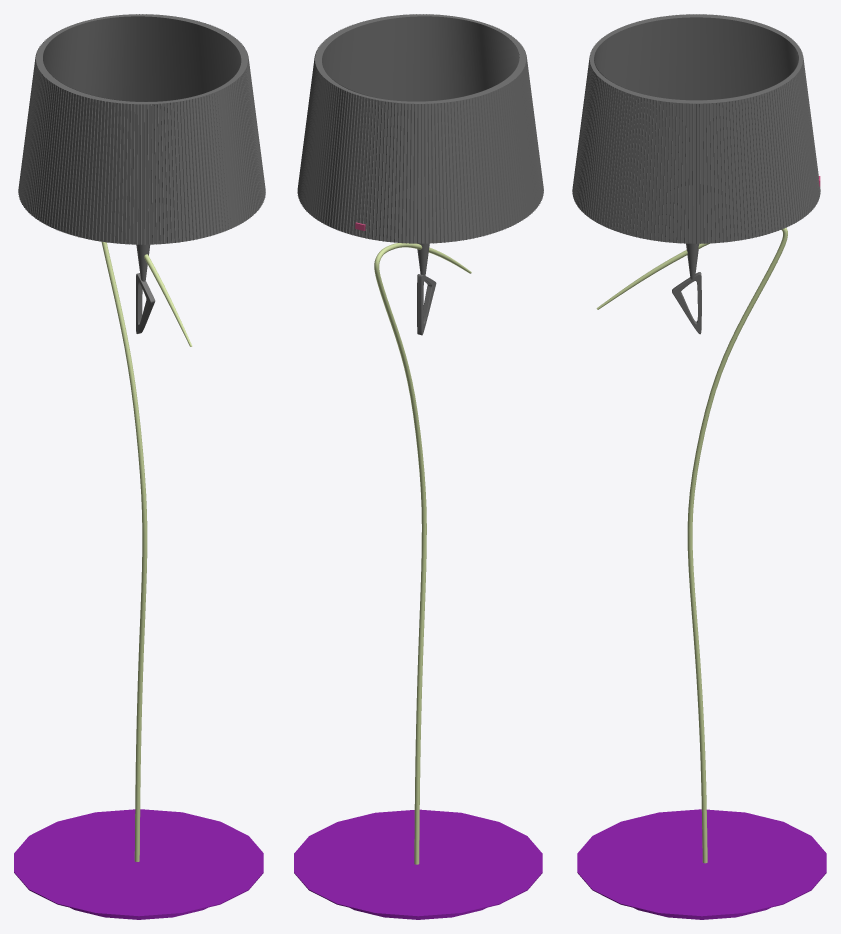
The model's file is floorLamp.obj.
The picture shows the model from 3 angles, left to right: view 1: azimuth 30°, elevation 25°; view 2: azimuth 150°, elevation 25°; view 3: azimuth 270°, elevation 25°; orthographic projection.
Parts seen in each view (by area): view 1: Cylinder018, Cylinder016, Line005, Cylinder020; view 2: Cylinder018, Cylinder016, Line005, Cylinder020; view 3: Cylinder018, Cylinder016, Line005, Cylinder020.
Part boxes in pixels (<box>): Cylinder018: <box>18,14,265,244</box>; Cylinder016: <box>14,809,263,916</box>; Line005: <box>101,241,191,861</box>; Cylinder020: <box>136,273,155,333</box>; Cylinder018: <box>297,14,543,243</box>; Cylinder016: <box>294,809,542,917</box>; Line005: <box>374,243,471,864</box>; Cylinder020: <box>417,274,436,335</box>; Cylinder018: <box>572,14,820,243</box>; Cylinder016: <box>577,809,826,916</box>; Line005: <box>596,228,787,863</box>; Cylinder020: <box>672,272,701,334</box>.
Bounding box in the file's own units: 500 × 1785 × 502.
